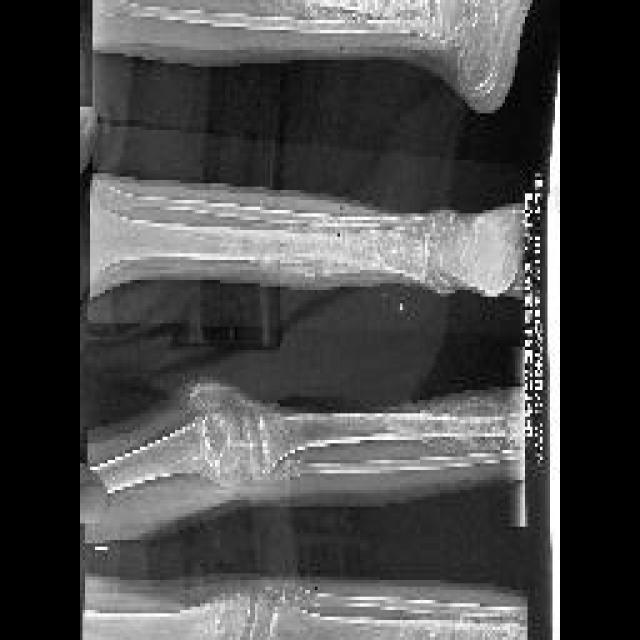bone-cancer: (279, 213, 424, 282), (249, 0, 457, 39), (400, 387, 522, 451), (395, 603, 526, 639)
